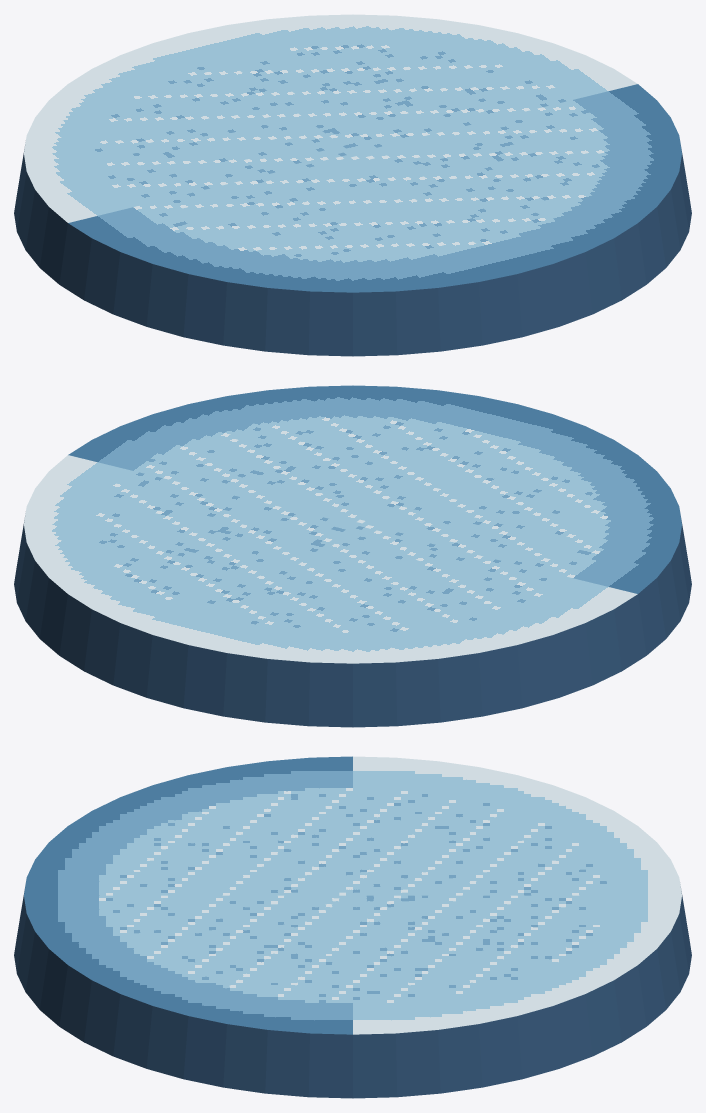
File: platform_ice.glb
The picture shows the model from 3 angles, top to bottom: view 1: azimuth 30°, elevation 25°; view 2: azimuth 150°, elevation 25°; view 3: azimuth 270°, elevation 25°; orthographic projection.
Visible parts, largest first — view 1: platform_ice; view 2: platform_ice; view 3: platform_ice.
Boxes of the visible parts, x1,y1,x2,y2 form: platform_ice: (14, 14, 691, 356); platform_ice: (14, 385, 691, 727); platform_ice: (14, 756, 691, 1098).
Bounding box in the file's own units: 2.06 × 0.2 × 2.06.
2 materials, 1 textured.
